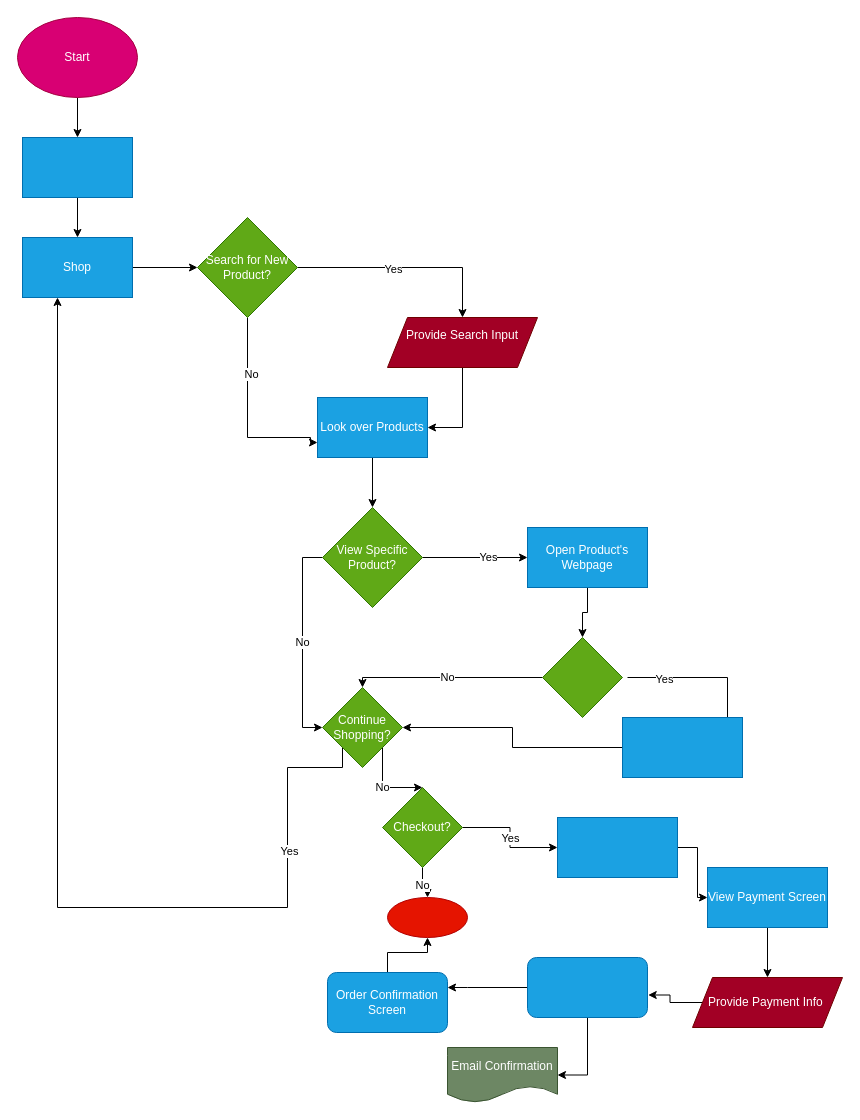
The diagram is 860 pixels wide and 1120 high, and some of its shapes have lost their labels. The centre of each missing label's shape, as x and y in pixels:
"Add To Cart Confirmation" belongs at pixel 682 747.
"Add To Cart?" belongs at pixel 582 677.
"Enter Website" belongs at pixel 77 167.
"Leave Site" belongs at pixel 427 917.
"Pay" belongs at pixel 587 987.
"View Cart Screen" belongs at pixel 617 847.
